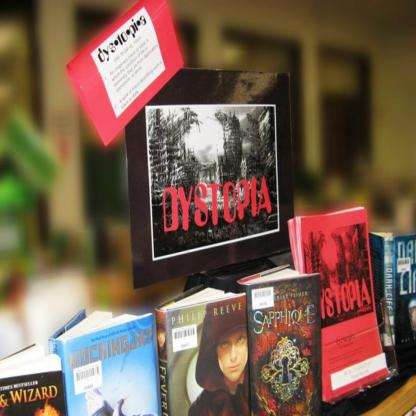book: (0, 205, 415, 415), (287, 221, 399, 396)
